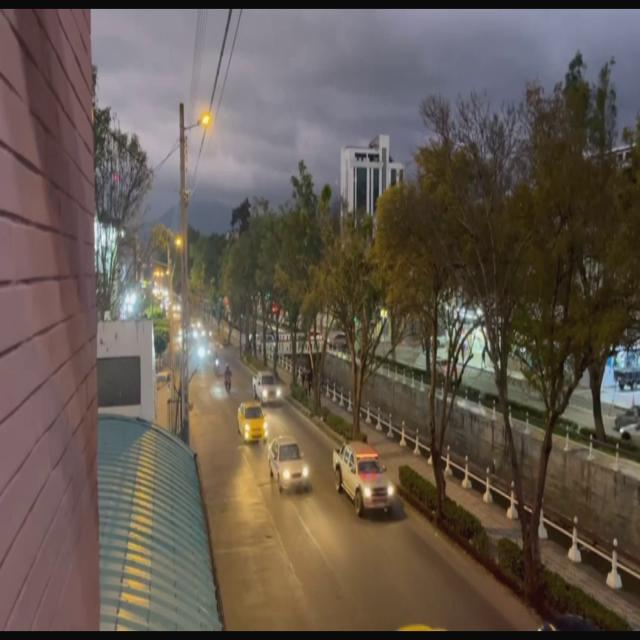CMT: (332, 442, 395, 516), (252, 372, 282, 404)
SED: (268, 437, 310, 492), (236, 402, 268, 444)
